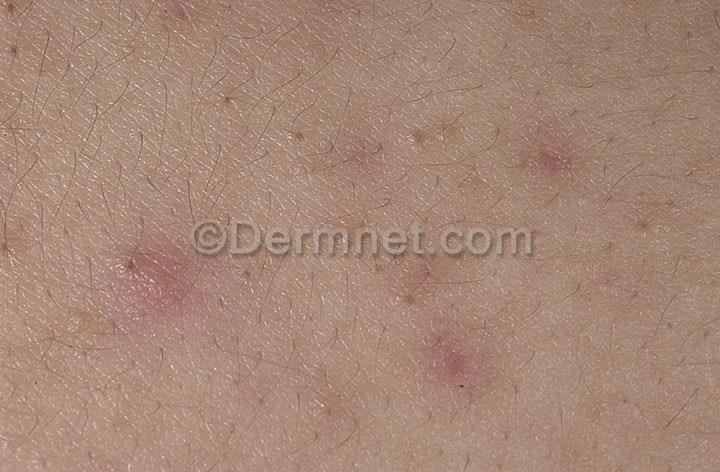Acne: (351, 237, 449, 315), (406, 317, 487, 410), (87, 254, 197, 320), (376, 114, 514, 153), (277, 114, 329, 173)
